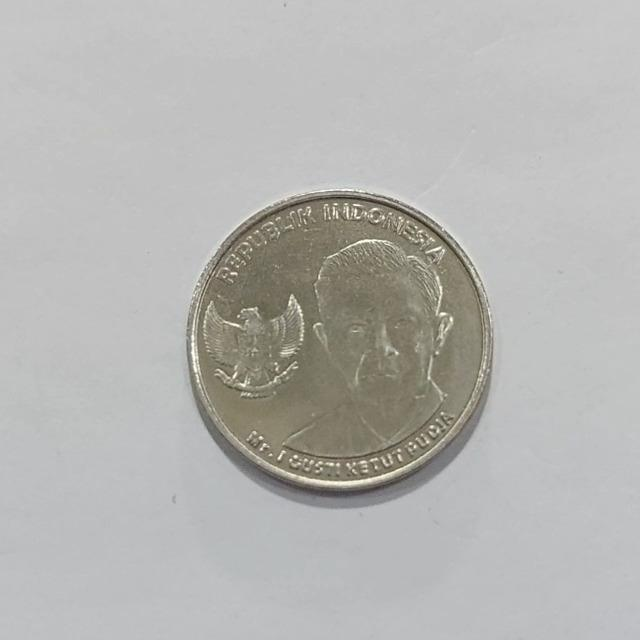Rp100: (185, 187, 494, 495), (276, 235, 456, 461), (200, 290, 306, 399)
